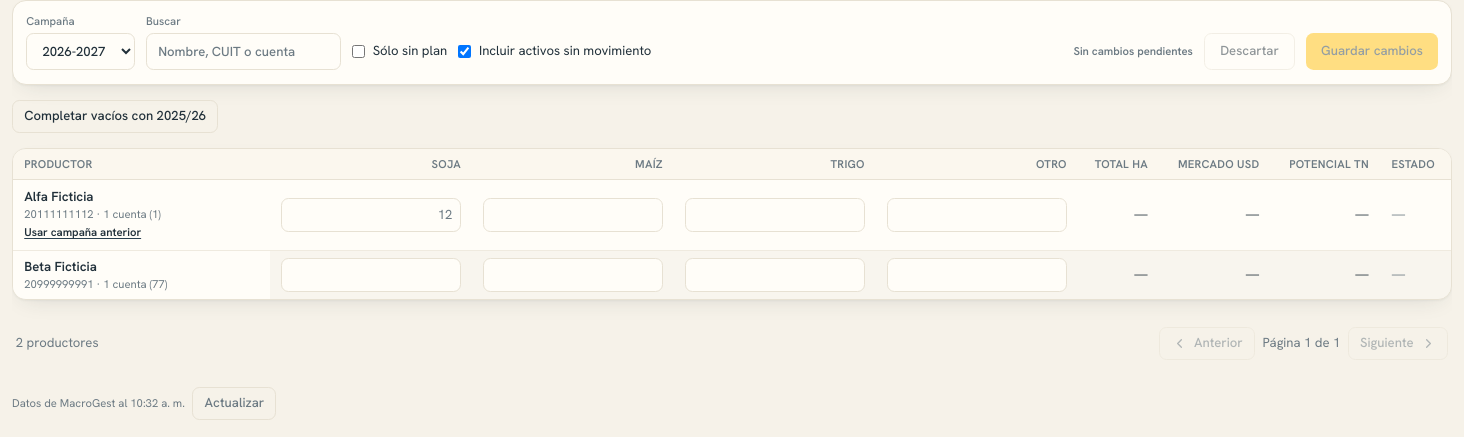
it: plan de siembra › buscar por CUIT o cuenta conserva el borrador al ocultar y volver a mostrar
The width and height of the screenshot is (1464, 437).
Type "25" into the field named "Hectáreas de soja de Alfa Ficticia". click: [371, 215]
box: x1=281 y1=198 x2=461 y2=232
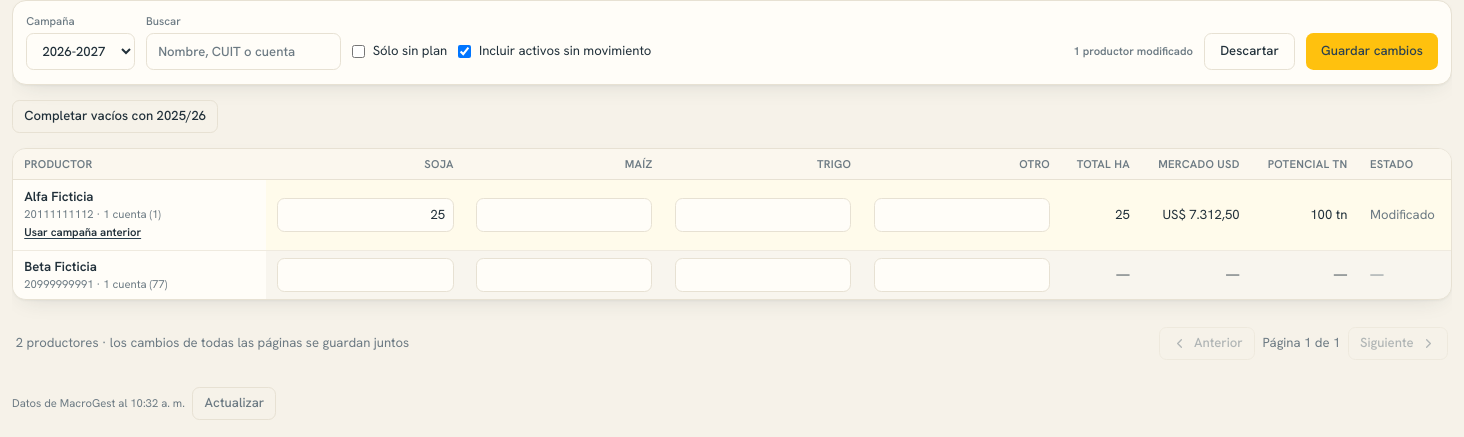
Type "77" into the field named "Buscar productor". click: [243, 52]
box: x1=146 y1=33 x2=341 y2=70
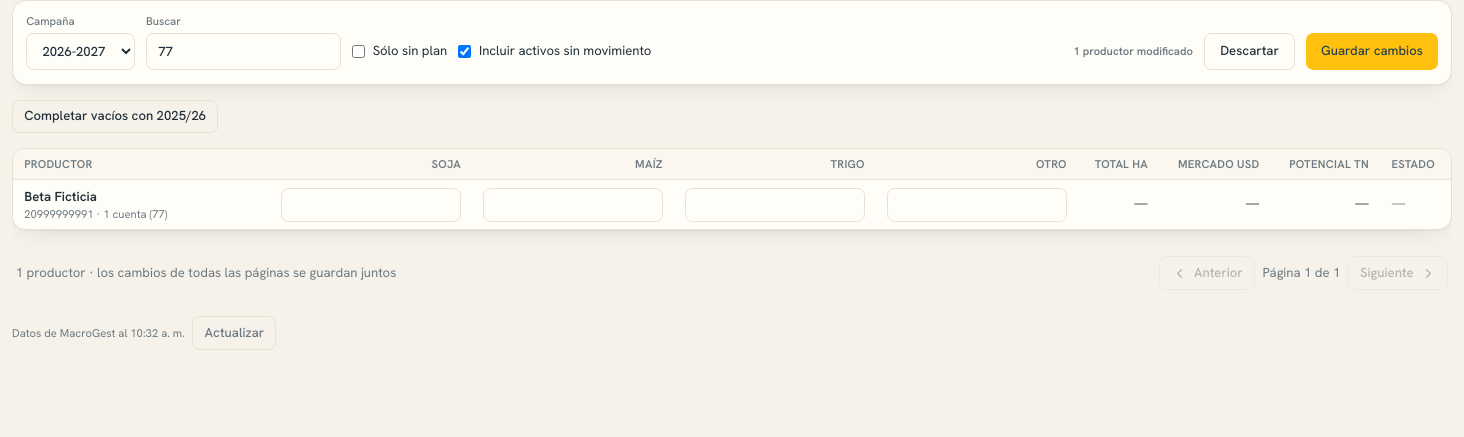
expect the text "Alfa Ficticia" is gone: met
Replace the text in the field named "Buscar productor" with "20111111112". click: [243, 52]
box: x1=146 y1=33 x2=341 y2=70
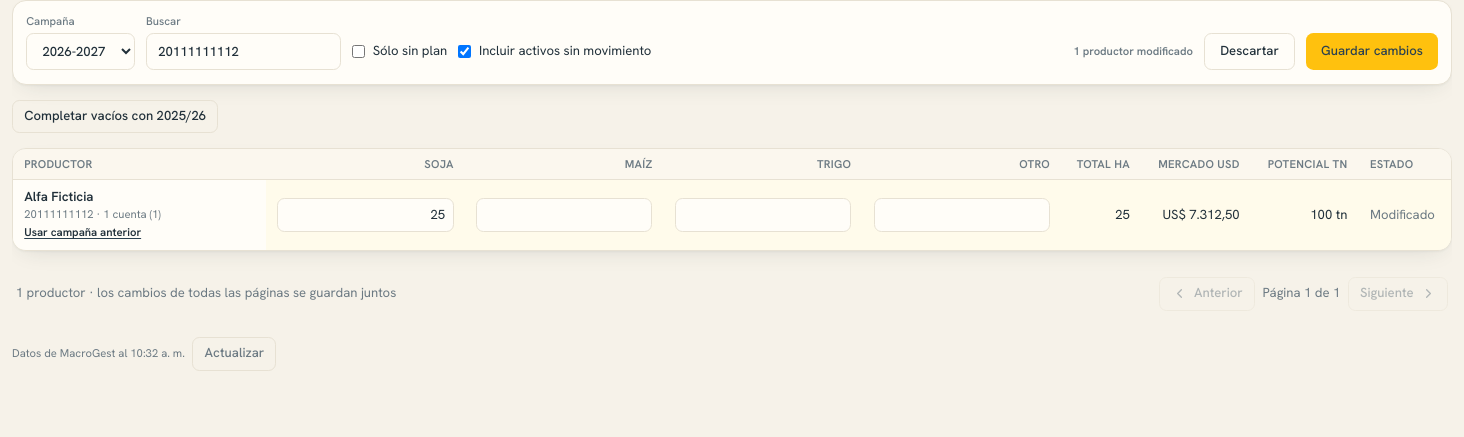
expect the text "1 productor modificado" is shown: met, box x1=1074 y1=44 x2=1193 y2=59
expect the field named "Hectáreas de soja de Alfa Ficticia" holds "25": met, box x1=277 y1=198 x2=454 y2=232
